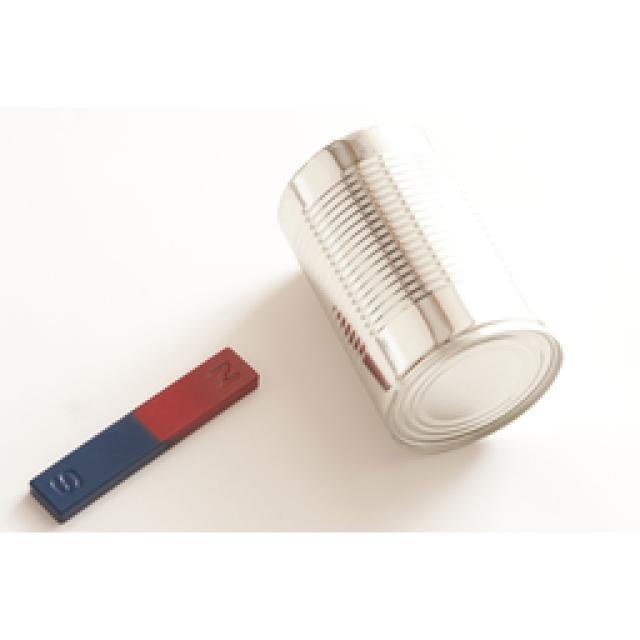alumunium: (278, 122, 560, 448)
